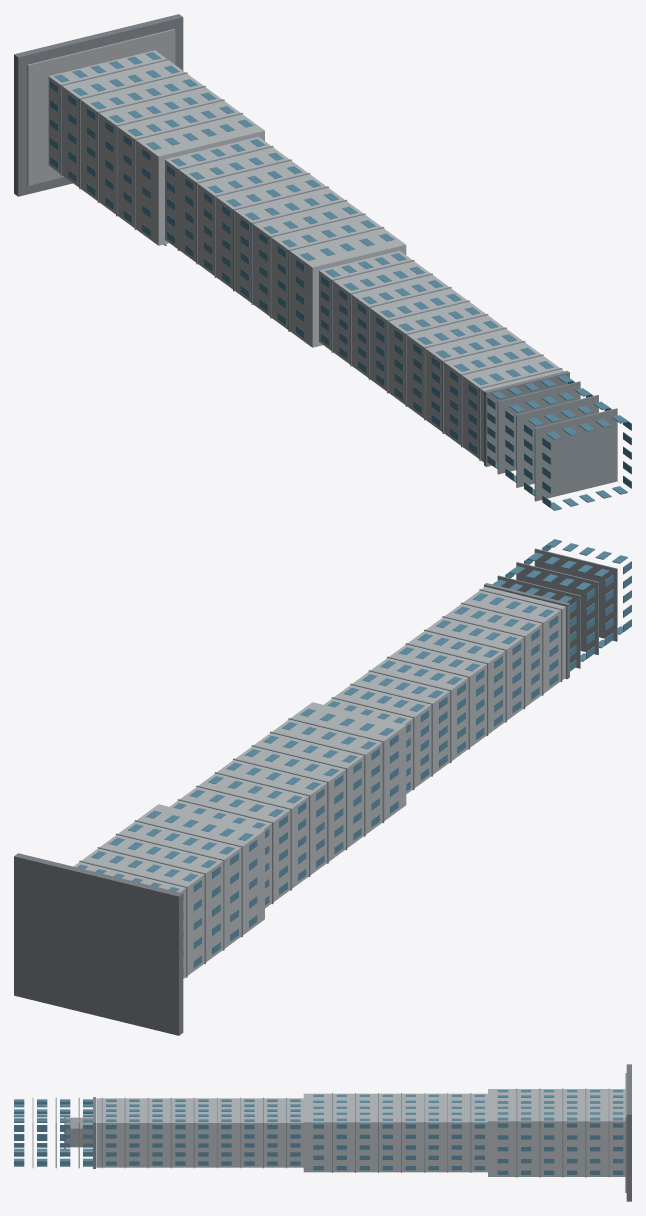
The model's file is solarflow_optimized_skyscraper.glb.
3 renders of one model, top to bottom at view 1: azimuth 30°, elevation 25°; view 2: azimuth 150°, elevation 25°; view 3: azimuth 270°, elevation 25°, orthographic. The views are drawn at different scales.
Parts seen in each view (by area): view 1: asset_part_05, asset_part_03, asset_part_04, asset_part_02, asset_part_06, asset_part_01, asset_part_00, asset_part_07; view 2: asset_part_00, asset_part_03, asset_part_05, asset_part_04, asset_part_02, asset_part_06, asset_part_07; view 3: asset_part_05, asset_part_04, asset_part_03, asset_part_02, asset_part_06, asset_part_00, asset_part_08, asset_part_01, asset_part_07.
Boxes of the visible parts, x1,y1,x2,y2 form: asset_part_05: [50, 52, 631, 510]; asset_part_03: [165, 136, 406, 347]; asset_part_04: [319, 250, 564, 462]; asset_part_02: [48, 50, 264, 245]; asset_part_06: [60, 58, 617, 501]; asset_part_01: [27, 29, 175, 185]; asset_part_00: [14, 14, 183, 196]; asset_part_07: [484, 370, 569, 466]; asset_part_00: [14, 853, 183, 1035]; asset_part_03: [170, 702, 406, 908]; asset_part_05: [77, 539, 631, 975]; asset_part_04: [324, 586, 565, 793]; asset_part_02: [73, 804, 264, 978]; asset_part_06: [79, 548, 617, 977]; asset_part_07: [484, 583, 569, 679]; asset_part_05: [14, 1090, 623, 1174]; asset_part_04: [96, 1098, 303, 1167]; asset_part_03: [303, 1093, 487, 1172]; asset_part_02: [488, 1089, 625, 1176]; asset_part_06: [32, 1088, 609, 1177]; asset_part_00: [626, 1064, 631, 1201]; asset_part_08: [65, 1117, 92, 1147]; asset_part_01: [625, 1073, 626, 1192]; asset_part_07: [93, 1097, 95, 1168].
Size of the model in its own units: 15.5 by 12.5 by 80.47.
